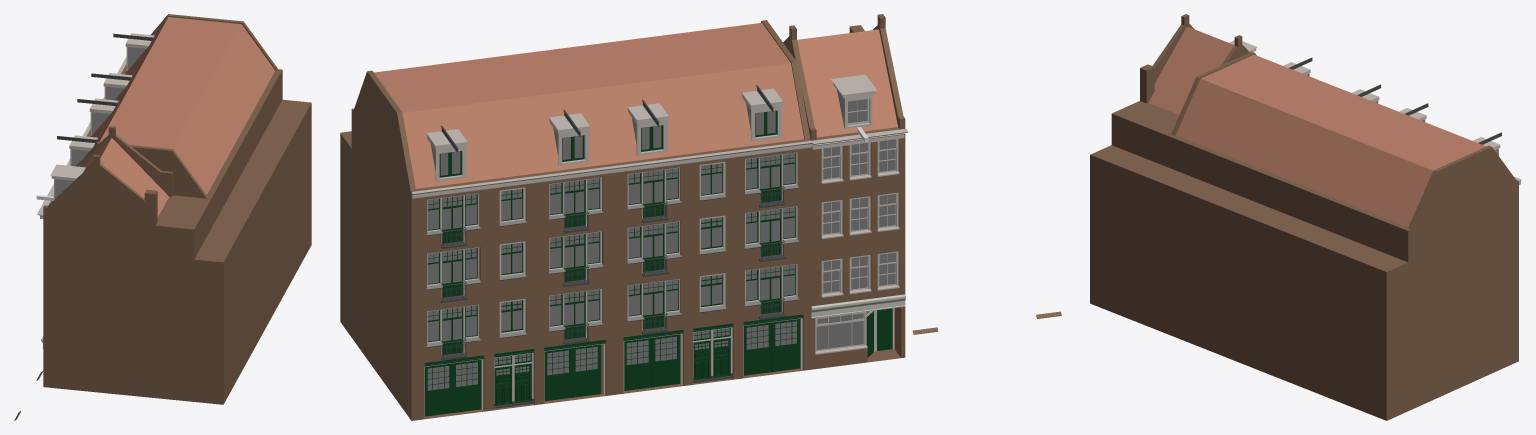
Rendered from Grote_Kattenburgerstraat_56-64.fbx.
The picture shows the model from 3 angles, left to right: view 1: azimuth 30°, elevation 25°; view 2: azimuth 150°, elevation 25°; view 3: azimuth 270°, elevation 25°; orthographic projection. The views are drawn at different scales.
Visible parts, largest first — view 1: Grote_Kattenburgerstraat_56_walls, Grote_Kattenburgerstraat_56_roof, Grote_Kattenburgerstraat_56_roof.003, Grote_kattenburgstraat_58-64_dormer.003, Grote_kattenburgstraat_58-64_dormer.001, Grote_kattenburgstraat_56_dormer, Grote_kattenburgstraat_58-64_dormer, Grote_kattenburgstraat_58-64_dormer.002; view 2: Grote_Kattenburgerstraat_56_walls, Grote_Kattenburgerstraat_56_roof, Grote_Kattenburgerstraat_56_roof.003, gutter.001, garage_doors.003, garage_doors, garage_doors.004, garage_doors.001, doorframe_double, doorframe_double.001, Grote_kattenburgstraat_56_dormer, Grote_kattenburgstraat_58-64_dormer.002 (+36 smaller); view 3: Grote_Kattenburgerstraat_56_walls, Grote_Kattenburgerstraat_56_roof, Grote_Kattenburgerstraat_56_roof.003.
Part boxes in pixels (x1,y1,x2,y2): Grote_Kattenburgerstraat_56_walls: [43, 64, 311, 404]; Grote_Kattenburgerstraat_56_roof: [84, 14, 278, 198]; Grote_Kattenburgerstraat_56_roof.003: [43, 126, 172, 225]; Grote_kattenburgstraat_58-64_dormer.003: [113, 33, 154, 70]; Grote_kattenburgstraat_58-64_dormer.001: [77, 98, 118, 135]; Grote_kattenburgstraat_56_dormer: [50, 164, 85, 199]; Grote_kattenburgstraat_58-64_dormer: [57, 135, 97, 166]; Grote_kattenburgstraat_58-64_dormer.002: [91, 73, 132, 100]; Grote_Kattenburgerstraat_56_walls: [340, 108, 905, 420]; Grote_Kattenburgerstraat_56_roof: [353, 20, 810, 190]; Grote_Kattenburgerstraat_56_roof.003: [783, 14, 905, 140]; gutter.001: [411, 141, 812, 198]; garage_doors.003: [544, 344, 600, 401]; garage_doors: [744, 319, 800, 375]; garage_doors.004: [425, 360, 481, 416]; garage_doors.001: [624, 334, 680, 390]; doorframe_double: [693, 327, 732, 382]; doorframe_double.001: [494, 352, 533, 408]; Grote_kattenburgstraat_56_dormer: [831, 74, 877, 129]; Grote_kattenburgstraat_58-64_dormer.002: [549, 110, 590, 165]; Grote_Kattenburgerstraat_56_walls: [1090, 101, 1518, 420]; Grote_Kattenburgerstraat_56_roof: [1171, 52, 1516, 229]; Grote_Kattenburgerstraat_56_roof.003: [1140, 14, 1249, 114].
Size of the model in its own units: 28.57 by 15.3 by 24.3.
